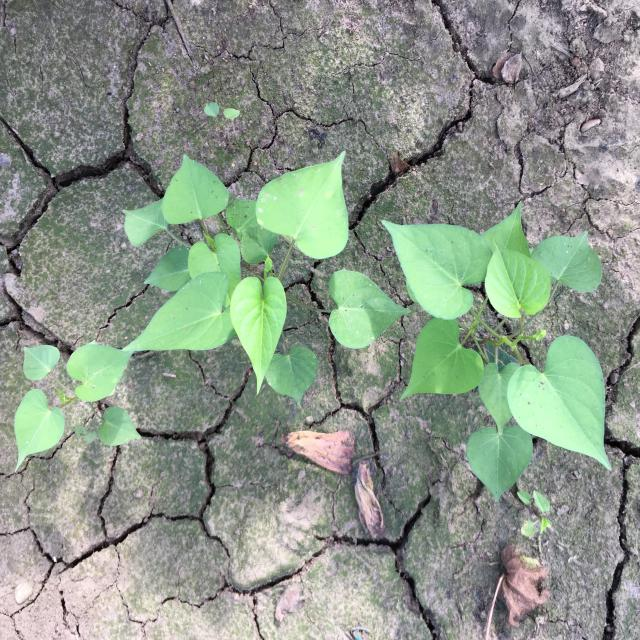MorningGlory: (121, 150, 411, 407), (382, 200, 612, 502), (14, 340, 142, 472), (517, 490, 553, 537), (204, 102, 240, 129)
